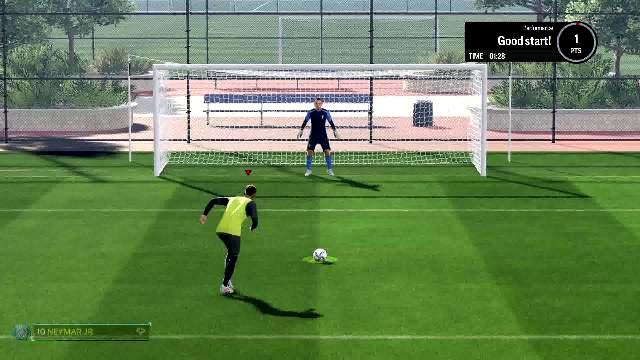bottom-left: (168, 133, 264, 177)
bottom-right: (372, 131, 474, 175)
center-down: (264, 131, 368, 175)
center-up: (266, 77, 370, 131)
circle: (298, 256, 340, 264)
football: (313, 249, 329, 263)
goalkeeper: (298, 98, 344, 178)
player: (195, 186, 263, 302)
top-left: (168, 78, 264, 132)
top-right: (366, 76, 472, 132)
